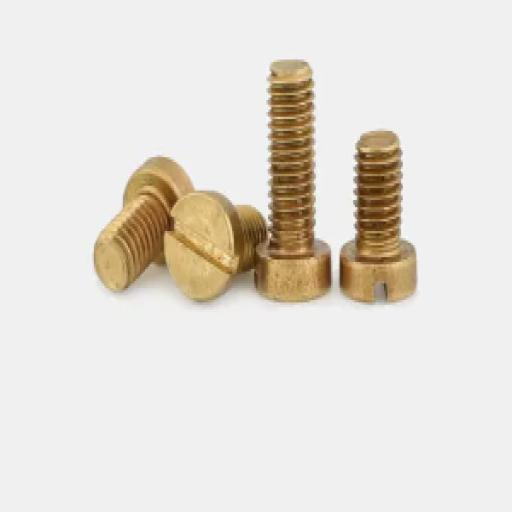Slotted: (167, 193, 239, 305)
